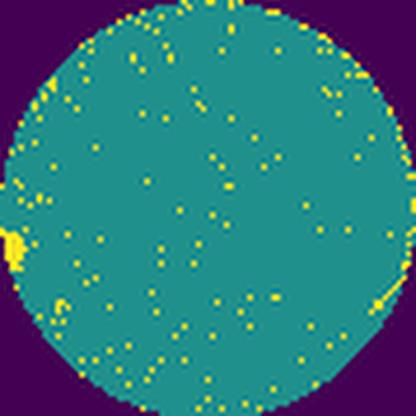Edge-Loc: (2, 222, 30, 275)
